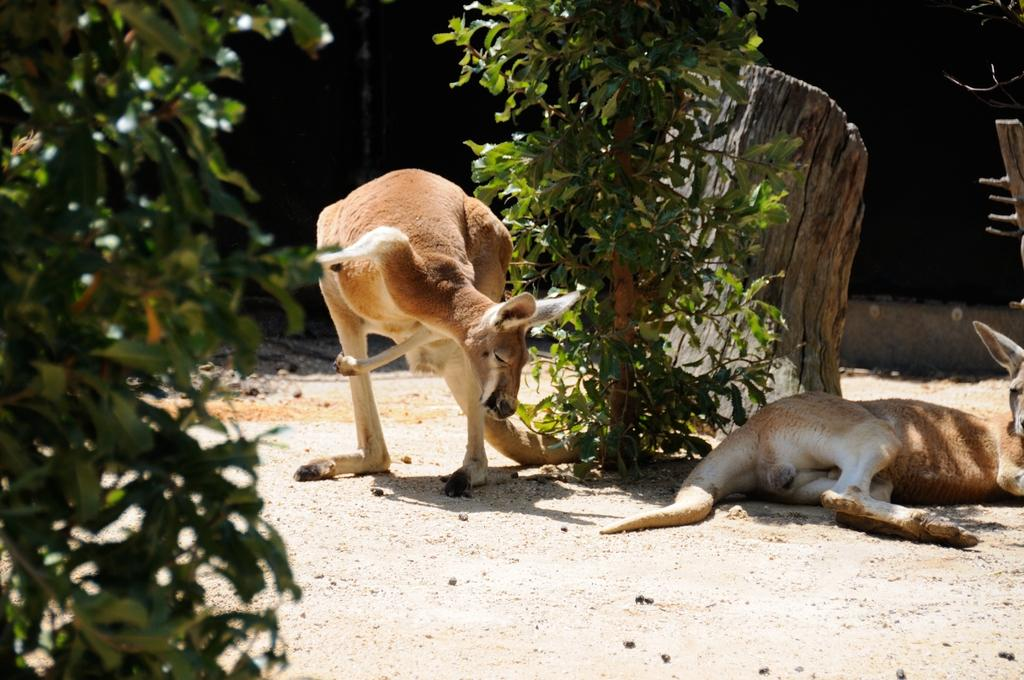kangaroo: (292, 171, 592, 499), (597, 322, 1023, 547)
